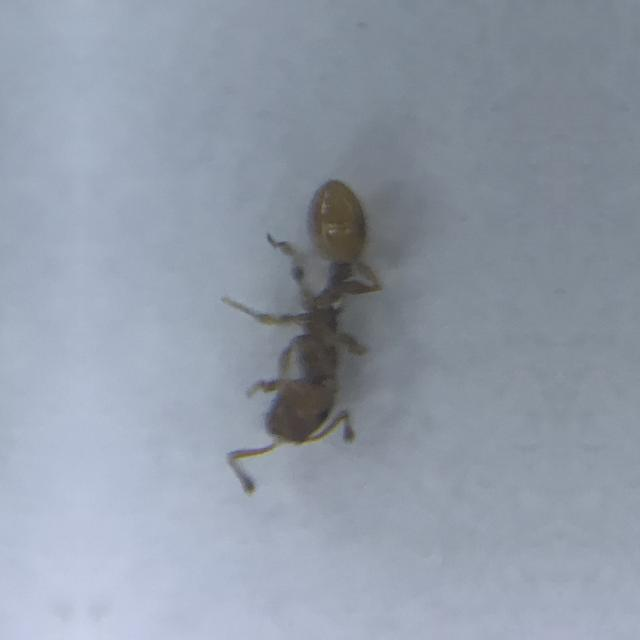Temnothorax: (218, 138, 400, 498)
